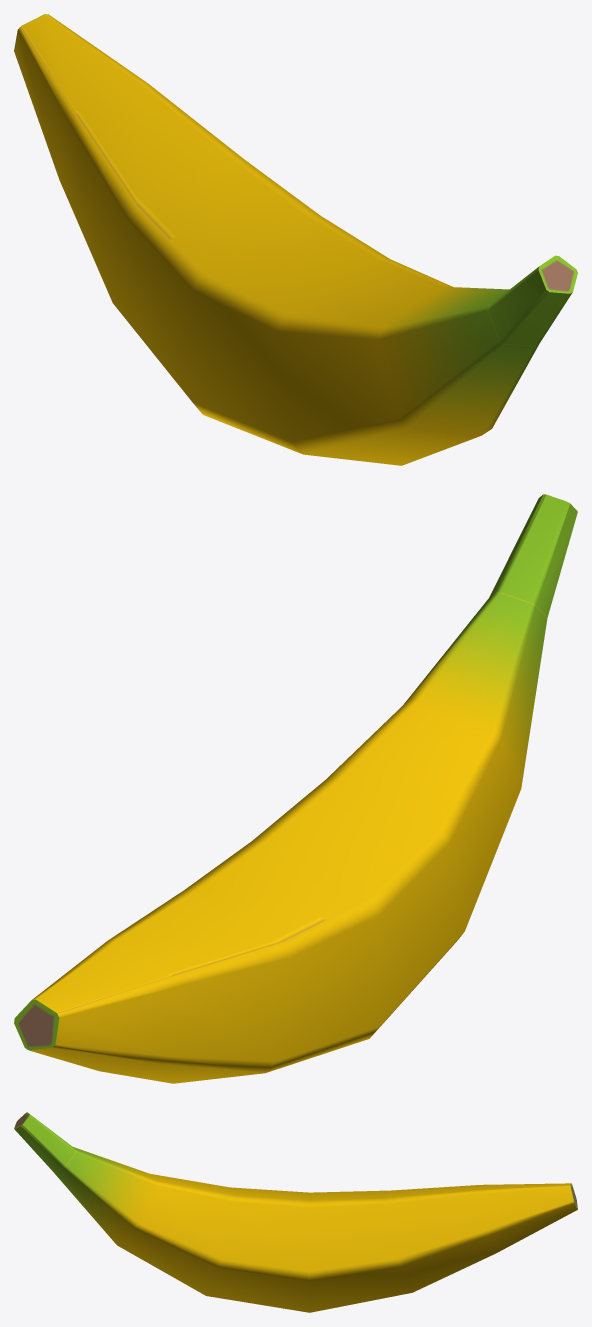
The model's file is banana.fbx.
3 views of the same model, one above another, from view 1: azimuth 30°, elevation 25°; view 2: azimuth 150°, elevation 25°; view 3: azimuth 270°, elevation 25° (orthographic). The views are drawn at different scales.
Parts seen in each view (by area): view 1: Banana; view 2: Banana; view 3: Banana.
Part boxes in pixels (box(x1,y1,x2,y2)): Banana: box(14, 14, 577, 465); Banana: box(14, 494, 577, 1083); Banana: box(14, 1112, 577, 1312).
Size of the model in its own units: 0.5776 by 1.06 by 2.8.
